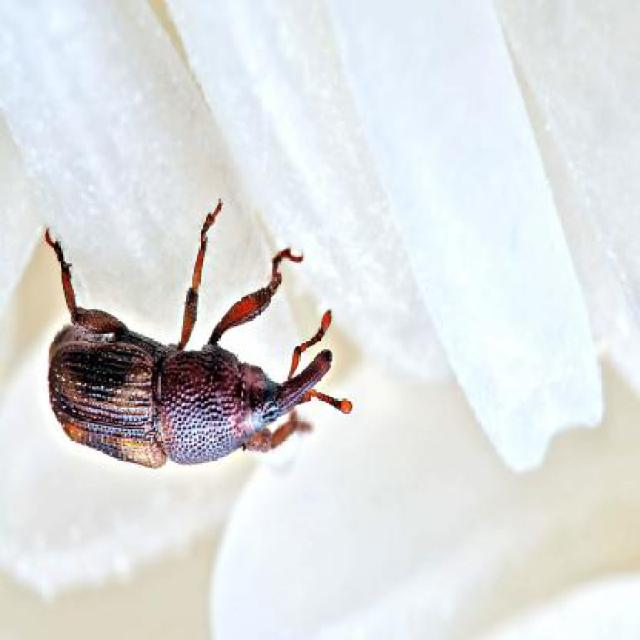rice-bug: (45, 222, 330, 473)
